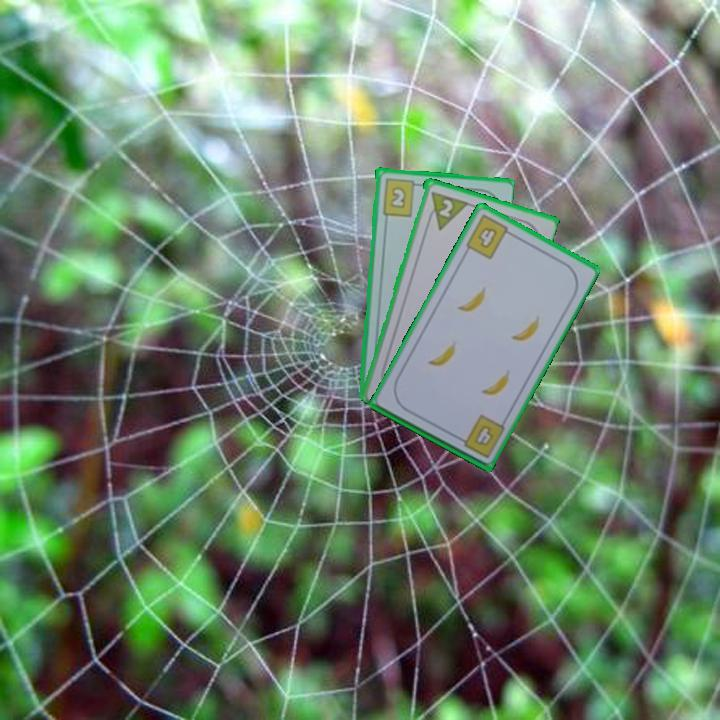2b: (379, 175, 423, 219)
2p: (435, 195, 456, 220)
4b: (462, 211, 516, 262), (453, 411, 508, 461)
